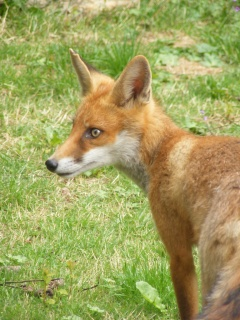Fox: (44, 48, 239, 319)
